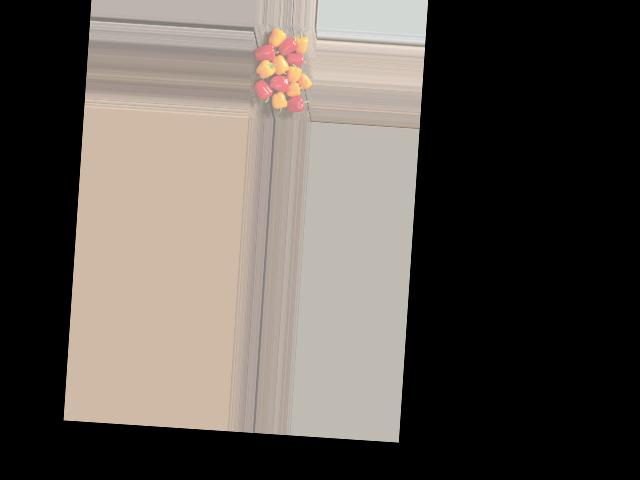bell_pepper: (264, 27, 287, 53)
